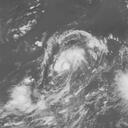cyclone: (41, 29, 97, 86)
